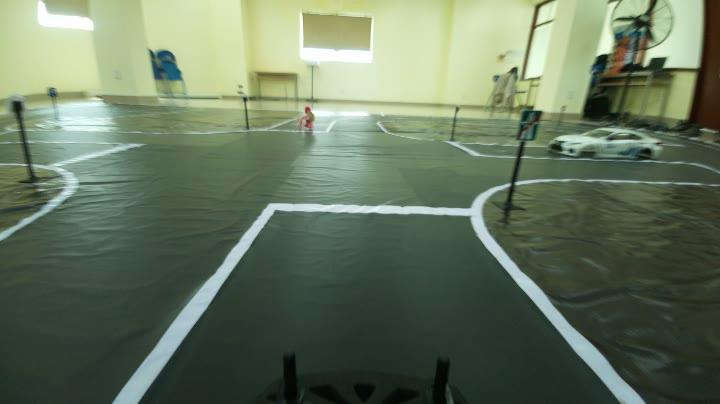highway_exit: (512, 106, 544, 142)
